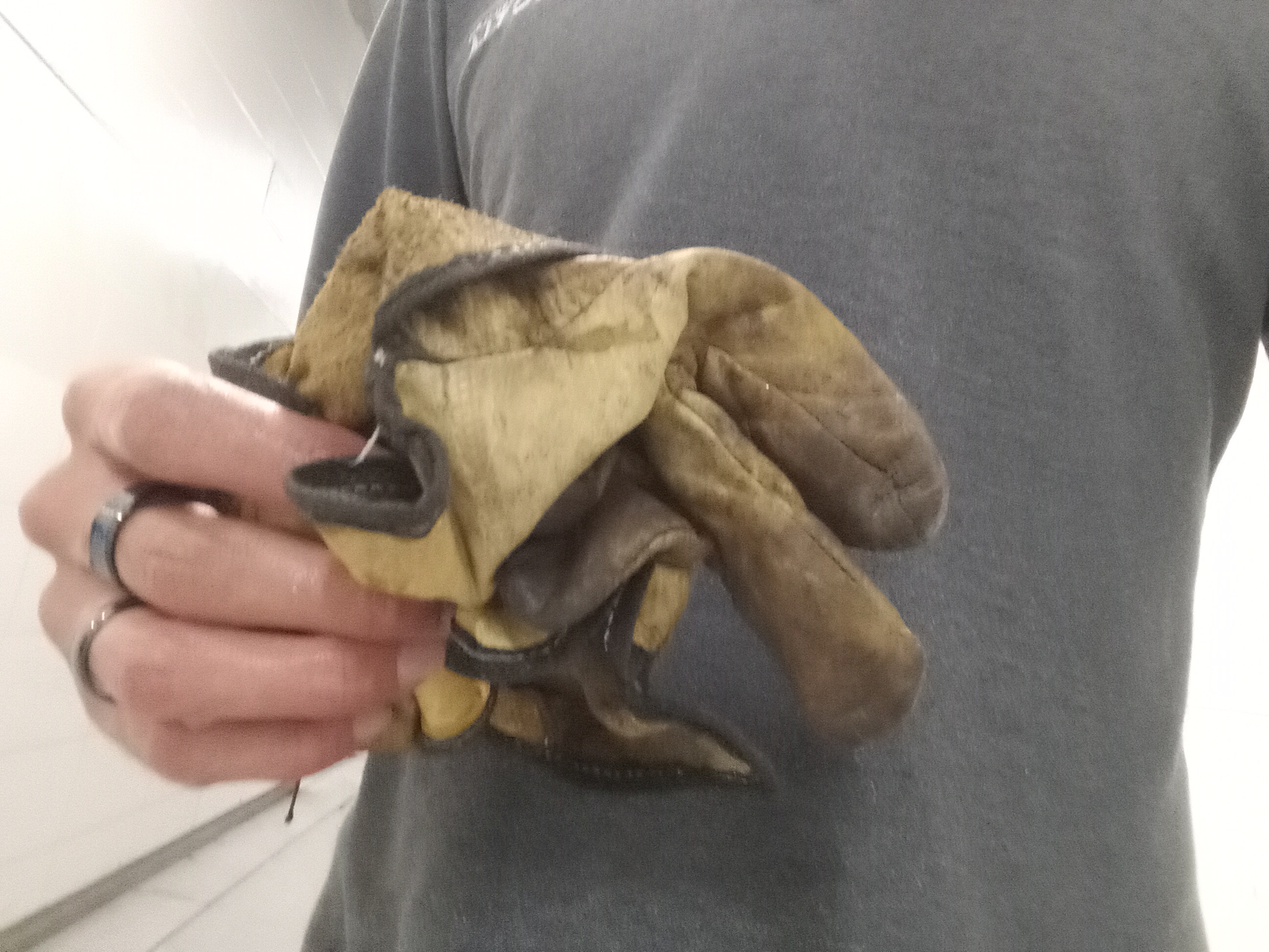Ordinario: (208, 189, 950, 794)
